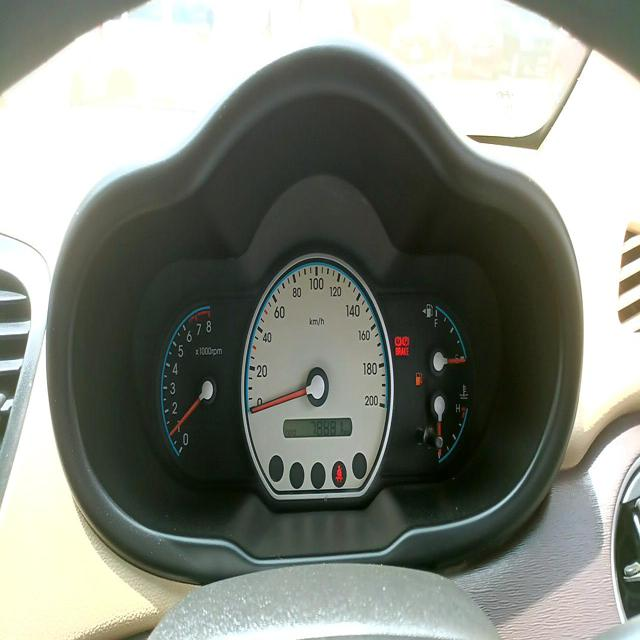odometer: (308, 416, 345, 437)
